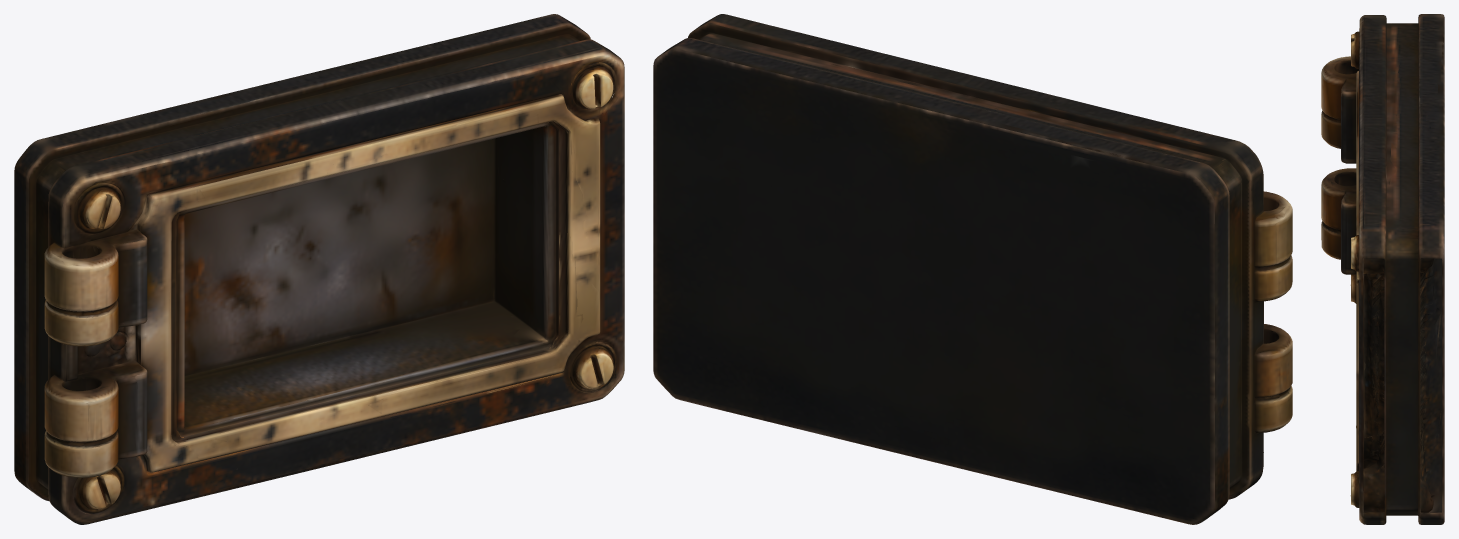
Rendered from secret_hole.glb.
The picture shows the model from 3 angles, left to right: view 1: azimuth 30°, elevation 25°; view 2: azimuth 150°, elevation 25°; view 3: azimuth 270°, elevation 25°; orthographic projection. The views are drawn at different scales.
Parts seen in each view (by area): view 1: Mesh_0; view 2: Mesh_0; view 3: Mesh_0.
Boxes of the visible parts, <box> form: Mesh_0: <box>14,14,624,524</box>; Mesh_0: <box>653,14,1292,524</box>; Mesh_0: <box>1321,14,1444,524</box>.
Bounding box in the file's own units: 1.05 × 0.6085 × 0.2284.
1 material, 1 textured.
